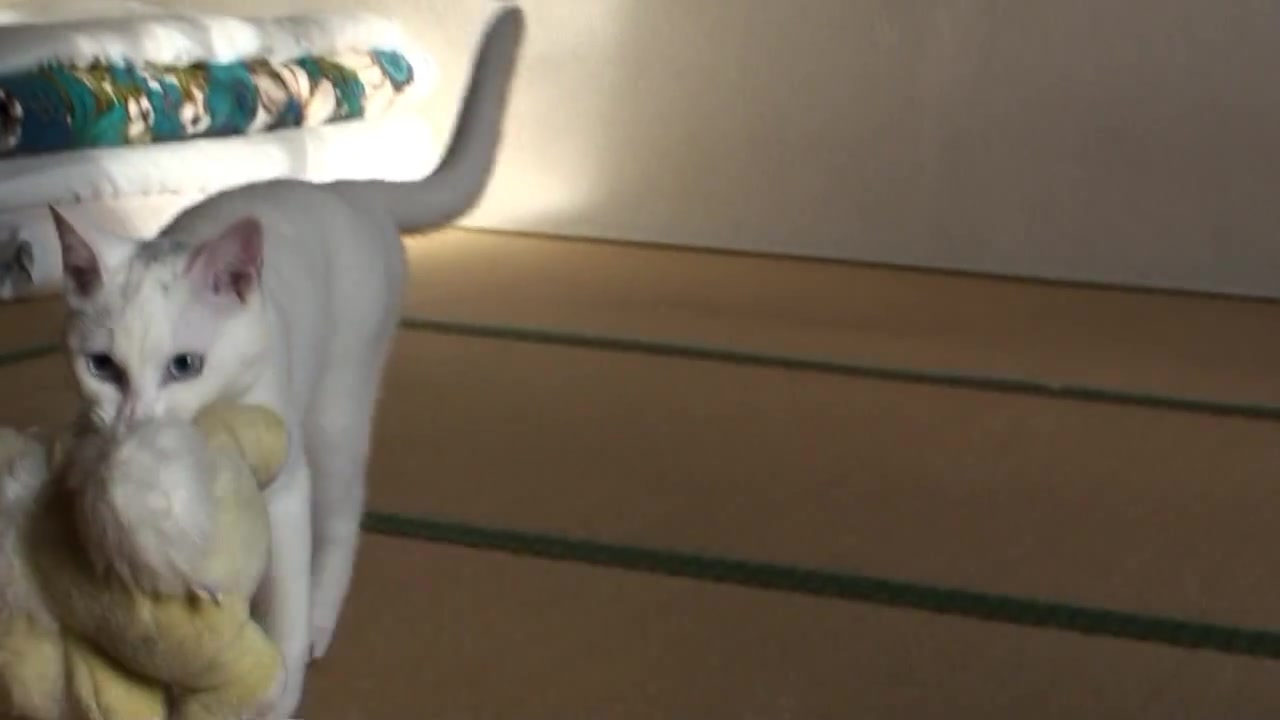cat: (48, 4, 527, 717)
